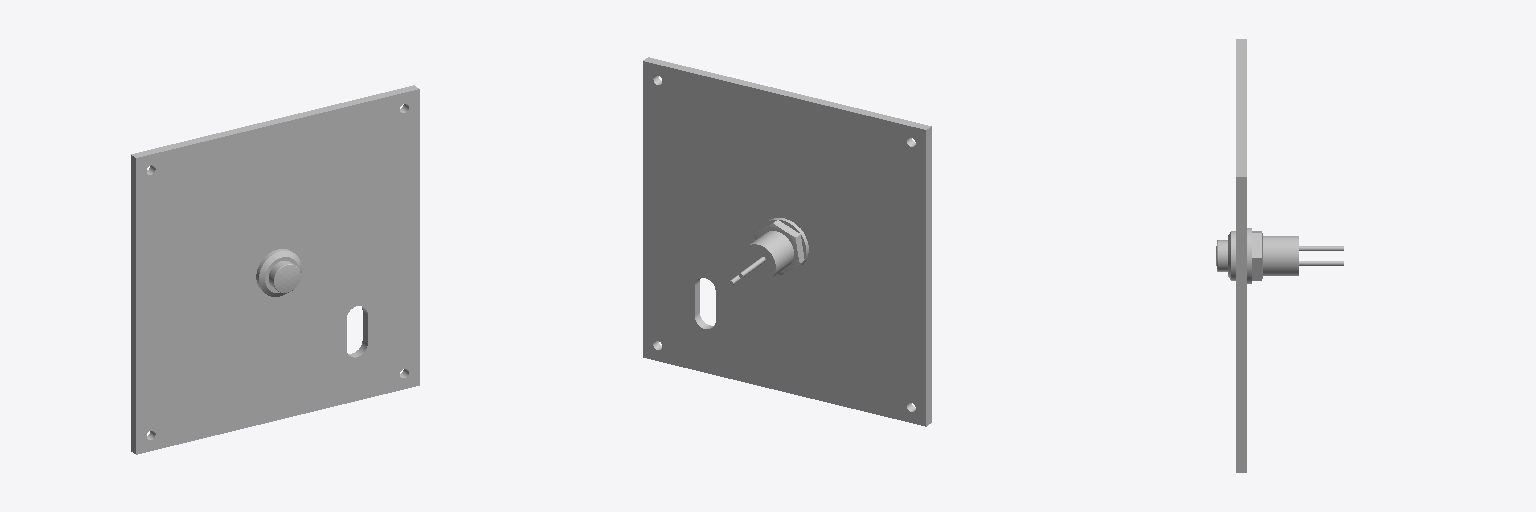
The model's file is Open.obj.
The picture shows the model from 3 angles: view 1: azimuth 30°, elevation 25°; view 2: azimuth 150°, elevation 25°; view 3: azimuth 270°, elevation 25°; orthographic projection.
Visible parts, largest first — view 1: obj1; view 2: obj1; view 3: obj1.
Part boxes in pixels (x1,y1,x2,y2): obj1: (131,85,419,454); obj1: (643,57,931,426); obj1: (1216,39,1343,472).
Size of the model in its own units: 94.2 by 94.2 by 36.91.